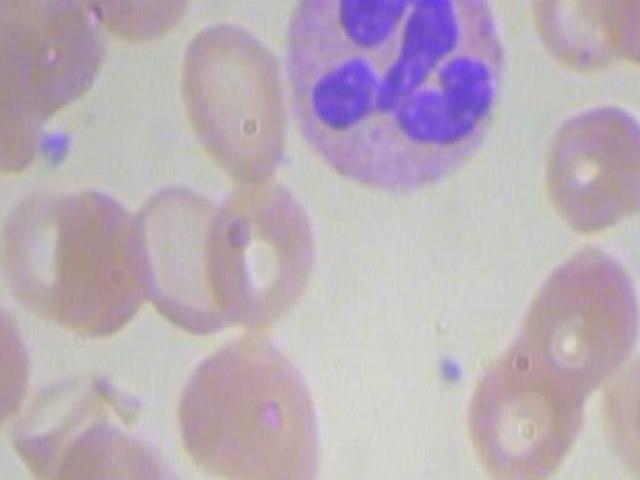Platelets: (34, 120, 80, 178), (428, 347, 469, 397)
RBC: (167, 14, 294, 193), (462, 324, 598, 480), (511, 240, 640, 404), (204, 162, 322, 329), (45, 182, 161, 337), (539, 87, 640, 242), (55, 411, 196, 480), (528, 0, 640, 74), (76, 0, 198, 43), (602, 0, 640, 74), (630, 362, 640, 480)
WBC: (265, 0, 510, 211)
